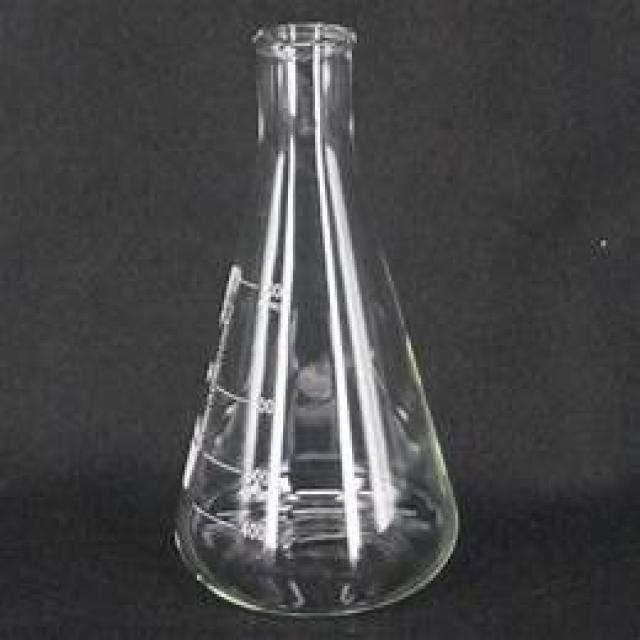Titrarion: (166, 20, 462, 617)
